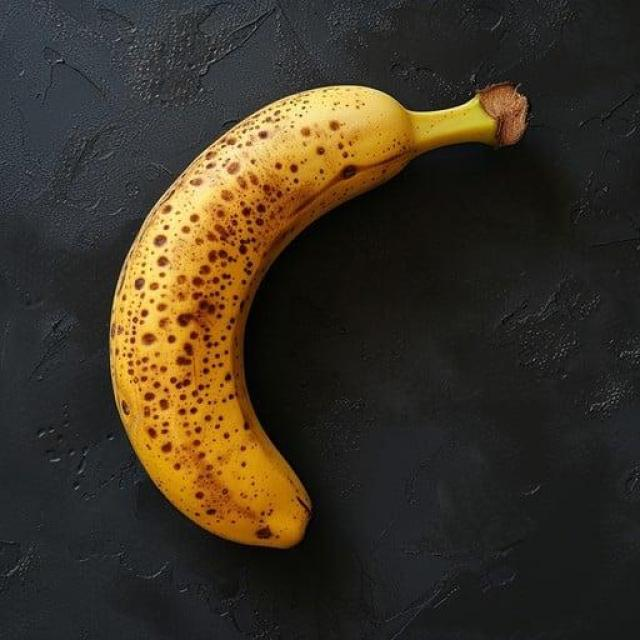Overripe: (59, 13, 535, 558)
